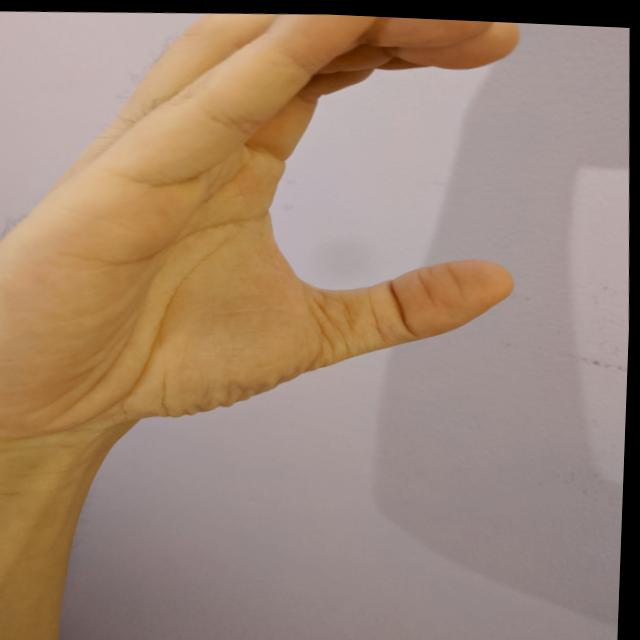C: (0, 0, 543, 463)
